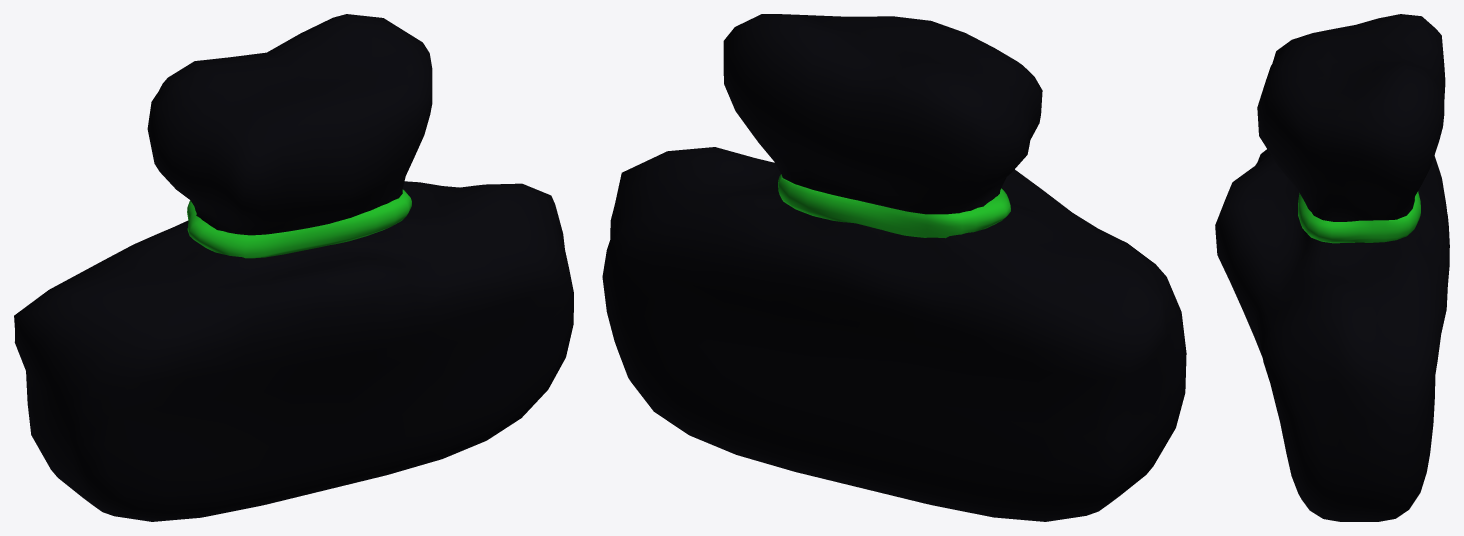
File: BinFullTrash.fbx
3 views of the same model, side by side, from view 1: azimuth 30°, elevation 25°; view 2: azimuth 150°, elevation 25°; view 3: azimuth 270°, elevation 25° (orthographic). The views are drawn at different scales.
Visible parts, largest first — view 1: High_Canteen_Bin; view 2: High_Canteen_Bin; view 3: High_Canteen_Bin.
Part boxes in pixels (box(x1,y1,x2,y2)): High_Canteen_Bin: box(14, 14, 573, 521); High_Canteen_Bin: box(602, 14, 1186, 521); High_Canteen_Bin: box(1215, 14, 1449, 521).
Size of the model in its own units: 25.06 by 19.79 by 10.15.
